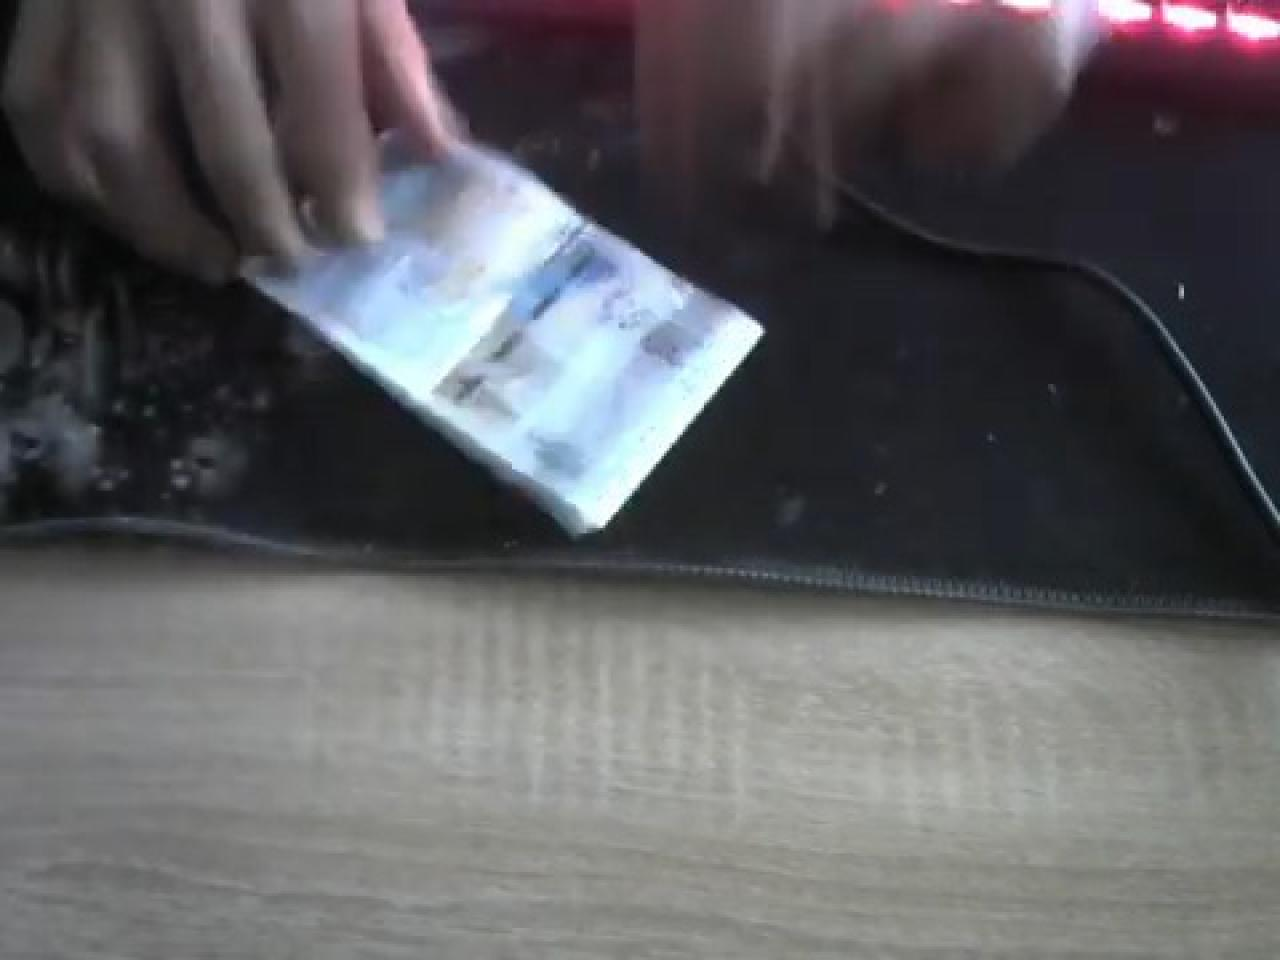20leva: (235, 128, 768, 542)
